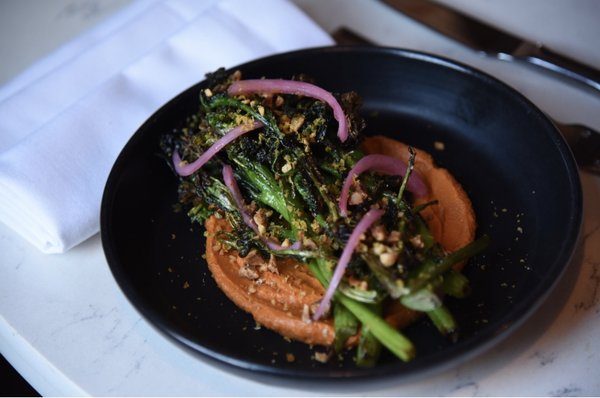sushi: (65, 40, 588, 377)
